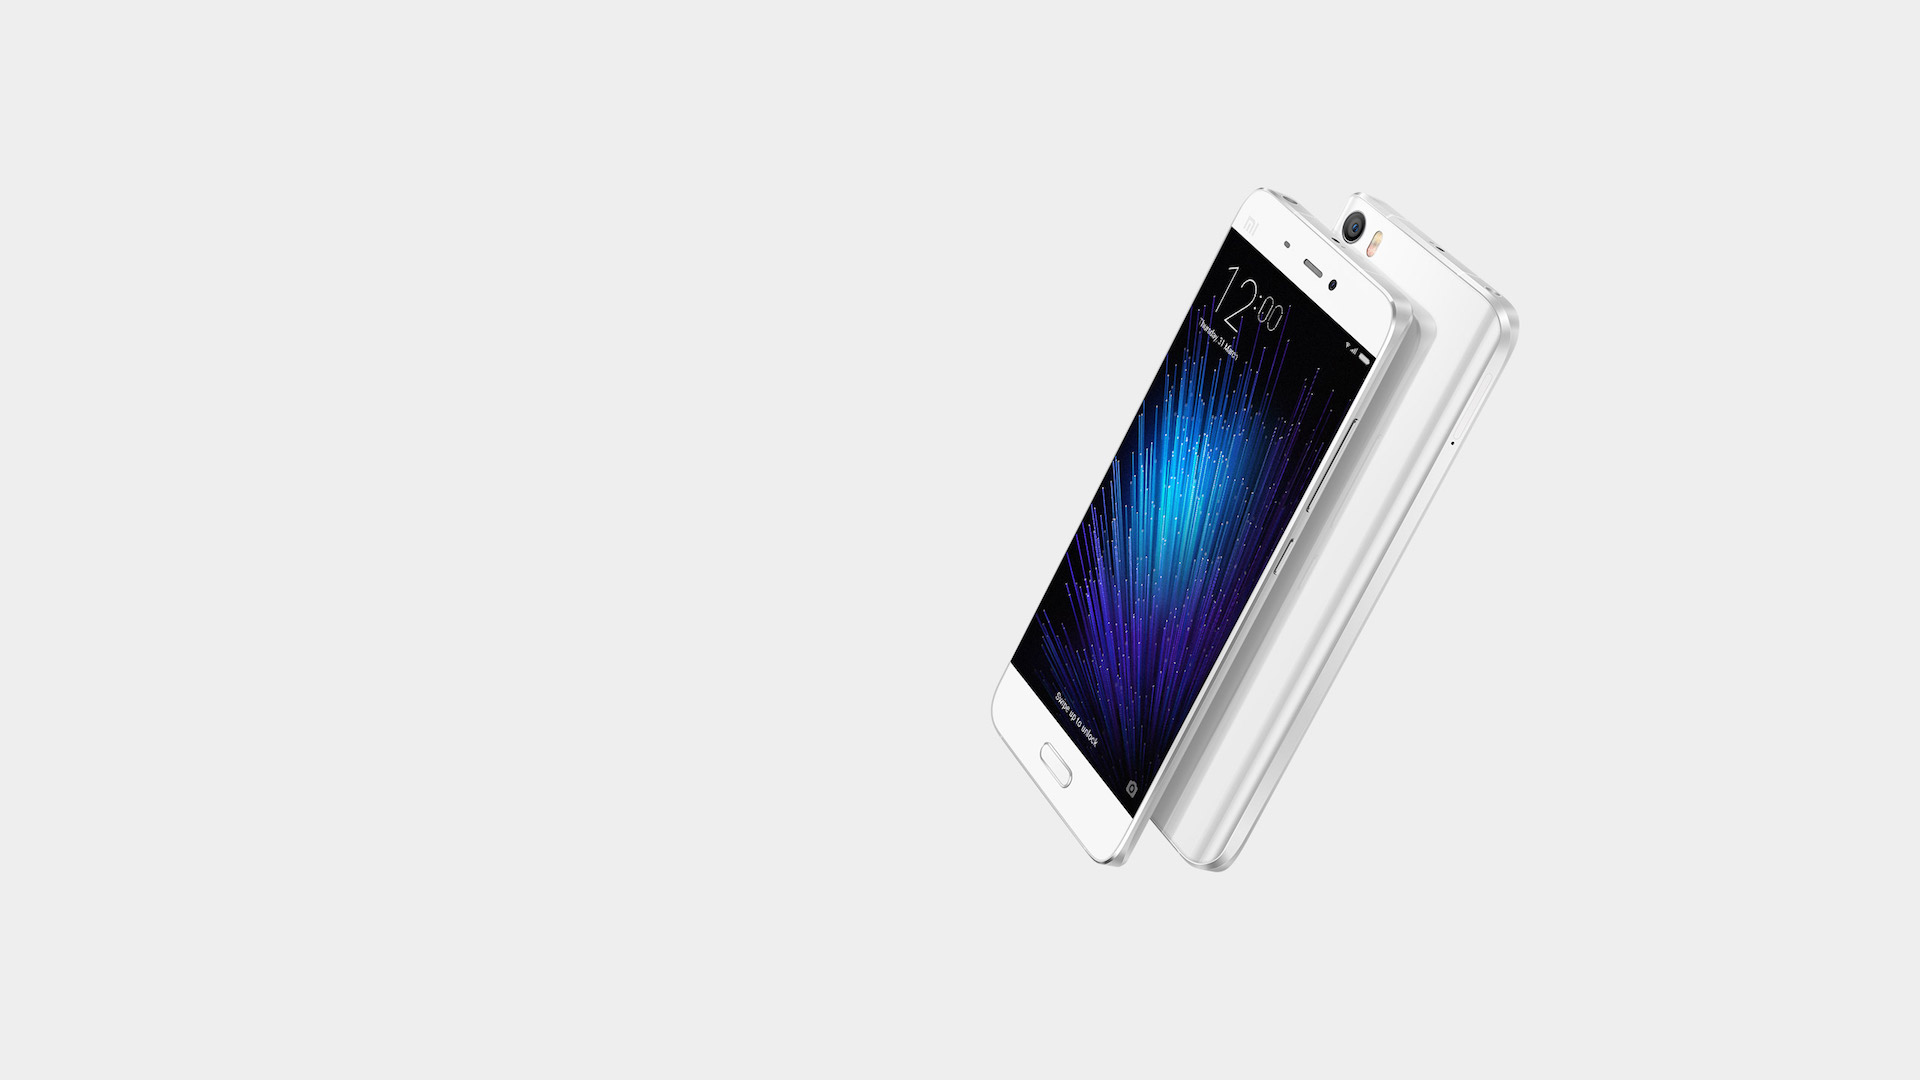smartphone: (988, 183, 1419, 870), (1149, 187, 1523, 874)
